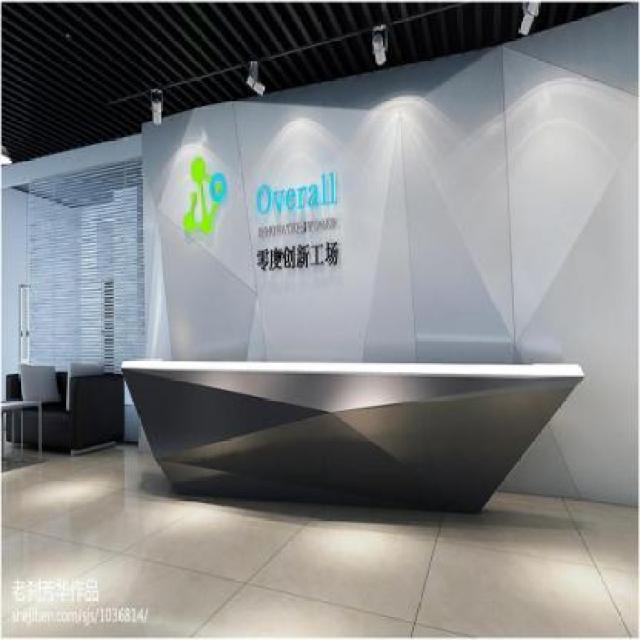frontdesk: (118, 348, 590, 528)
